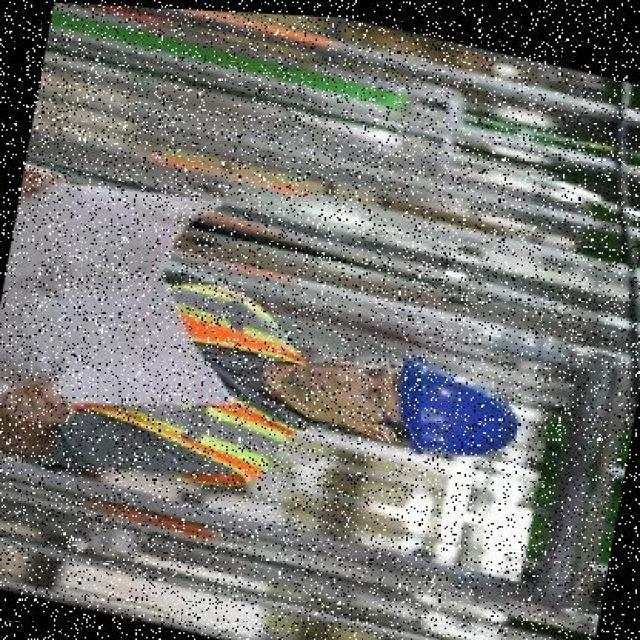helmet: (380, 345, 529, 477)
vest: (35, 248, 313, 492)
